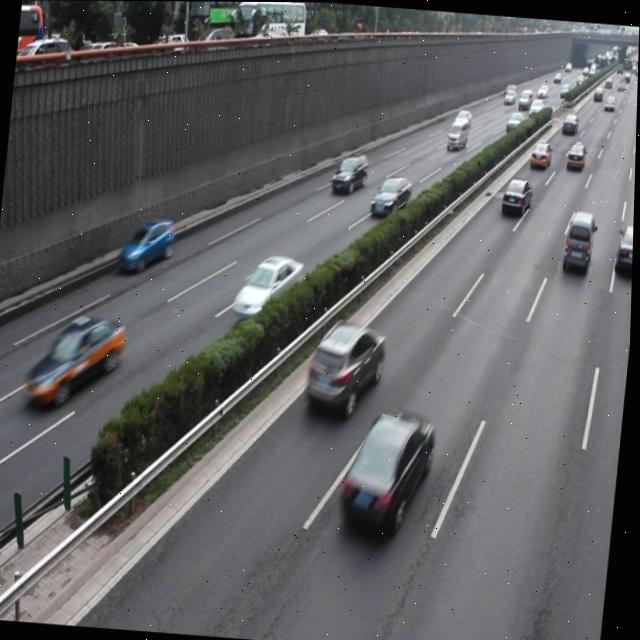car: (338, 400, 438, 532), (24, 308, 129, 410), (305, 313, 387, 415), (233, 249, 306, 318), (118, 214, 177, 275), (368, 173, 413, 221), (329, 151, 369, 195), (500, 174, 535, 217), (614, 221, 635, 274)
truck: (560, 209, 595, 272)
